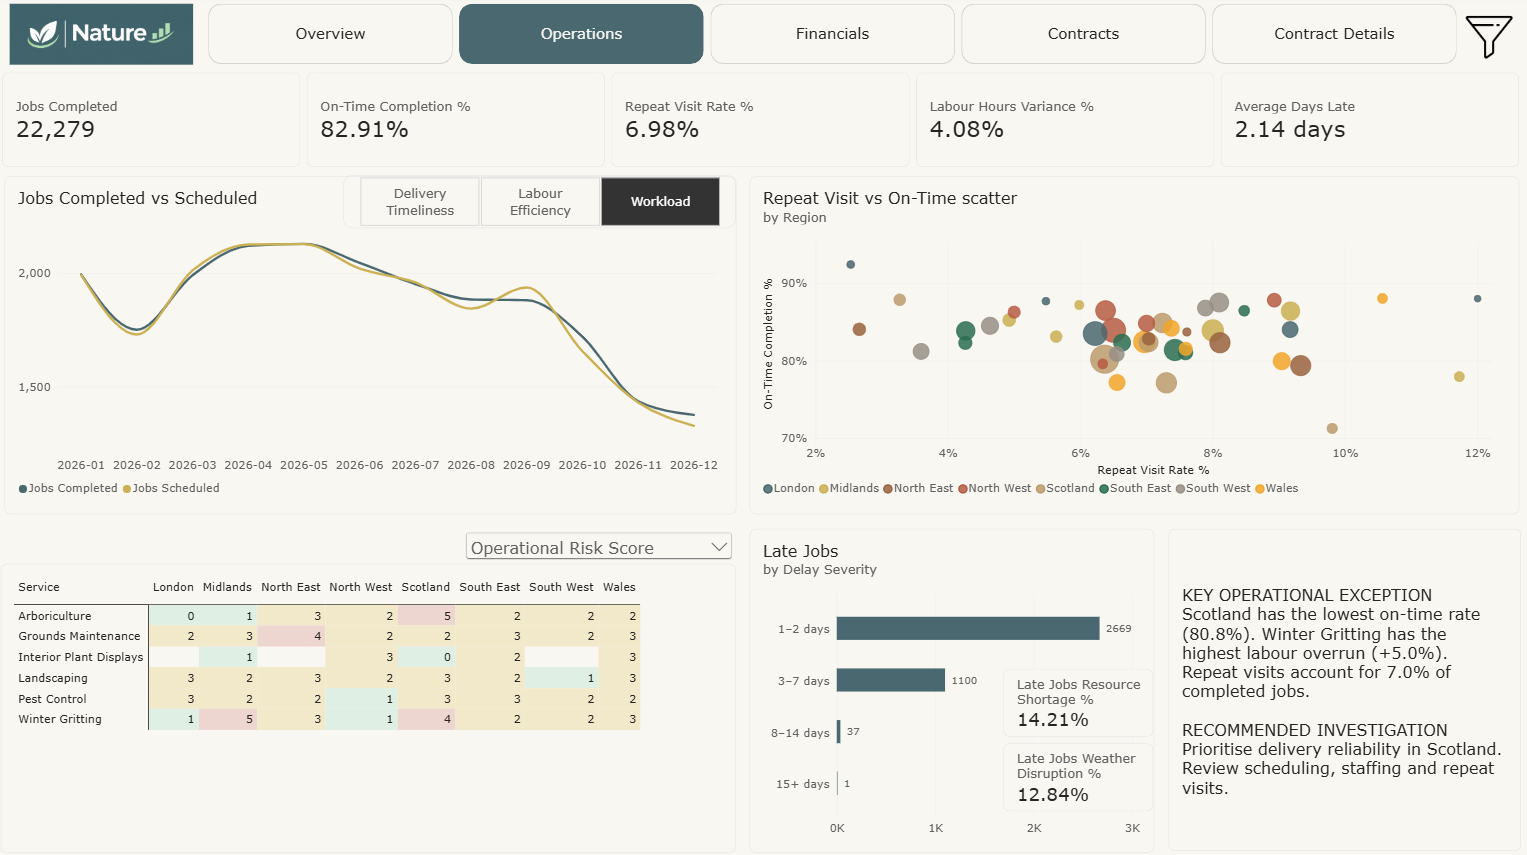

This screenshot's page, from the dashboard's own definition file:
{"tool":"powerbi","page":{"name":"Operations","canvas":[1920,1080],"ordinal":2},"visuals":[{"type":"cardVisual","fields":{"Data":["Operational measures.Jobs Completed","Operational measures.On-Time Completion %","Operational measures.Repeat Visit Rate %","Operational measures.Labour Hours Variance %","Operational measures.Average Days Late"]},"box":[12.9,97,1894.2,118.8],"z":0},{"type":"pivotTable","title":"On-Time Completion","fields":{"Columns":["dim_regions.region_name"],"Rows":["dim_services.service_name"],"Values":["Dynamic measures.Operations Heatmap Value"]},"box":[11.4,709.7,916.5,360.5],"z":1000},{"type":"image","box":[1838.3,18.3,58.3,68.3],"z":2000},{"type":"pageNavigator","box":[269,11.6,1558.6,75.6],"z":3000},{"type":"clusteredBarChart","fields":{"Category":["fact_jobs.Delay Severity"],"Y":["Operational measures.Late Jobs"]},"box":[945,666.1,504.8,404.2],"z":4000},{"type":"scatterChart","title":"Repeat Visit vs On-Time scatter","fields":{"Category":["dim_services.service_name"],"Series":["dim_regions.region_name"],"Size":["Operational measures.Jobs Completed"],"X":["Operational measures.Repeat Visit Rate %"],"Y":["Operational measures.On-Time Completion %"]},"box":[945,225.8,960.2,421.3],"z":5000},{"type":"lineChart","fields":{"Category":["Calendar.Year Month"],"Series":["Operations Trend Series.Series"],"Y":["05. Dynamic measures.Operations Trend Value"]},"box":[15.2,225.8,912.8,421.3],"z":6000},{"type":"slicer","fields":{"Values":["Operations Trend Selector.Metric"]},"box":[438.3,223.9,489.6,66.4],"z":7000},{"type":"slicer","fields":{"Values":["Operations Heatmap Selector.Metric"]},"box":[586.4,666.1,341.6,43.6],"z":8000},{"type":"cardVisual","fields":{"Data":["Operational measures.Late Jobs Resource Shortage %","Operational measures.Late Jobs Weather Disruption %"]},"box":[1261.9,840.6,187.9,178.4],"z":9000},{"type":"cardVisual","fields":{"Data":["Dynamic measures.Operations Insight"]},"box":[1466.9,666.1,440.2,402.3],"z":10000},{"type":"image","box":[14,10.9,244.7,76.4],"z":12000}]}

Visuals, with their boxes in screenshot pixels (x1, y1, x2, y2), scaled from the page's 1920x1080 canvas onto the 1527x855 screenshot:
cardVisual - Operational measures.Jobs Completed x Operational measures.On-Time Completion %: {"x1": 10, "y1": 77, "x2": 1517, "y2": 171}
"On-Time Completion" pivotTable: {"x1": 9, "y1": 562, "x2": 738, "y2": 847}
image: {"x1": 1462, "y1": 14, "x2": 1508, "y2": 69}
pageNavigator: {"x1": 214, "y1": 9, "x2": 1454, "y2": 69}
clusteredBarChart - fact_jobs.Delay Severity x Operational measures.Late Jobs: {"x1": 752, "y1": 527, "x2": 1153, "y2": 847}
"Repeat Visit vs On-Time scatter" scatterChart: {"x1": 752, "y1": 179, "x2": 1515, "y2": 512}
lineChart - Calendar.Year Month x Operations Trend Series.Series: {"x1": 12, "y1": 179, "x2": 738, "y2": 512}
slicer - Operations Trend Selector.Metric: {"x1": 349, "y1": 177, "x2": 738, "y2": 230}
slicer - Operations Heatmap Selector.Metric: {"x1": 466, "y1": 527, "x2": 738, "y2": 562}
cardVisual - Operational measures.Late Jobs Resource Shortage % x Operational measures.Late Jobs Weather Disruption %: {"x1": 1004, "y1": 665, "x2": 1153, "y2": 807}
cardVisual - Dynamic measures.Operations Insight: {"x1": 1167, "y1": 527, "x2": 1517, "y2": 846}
image: {"x1": 11, "y1": 9, "x2": 206, "y2": 69}
